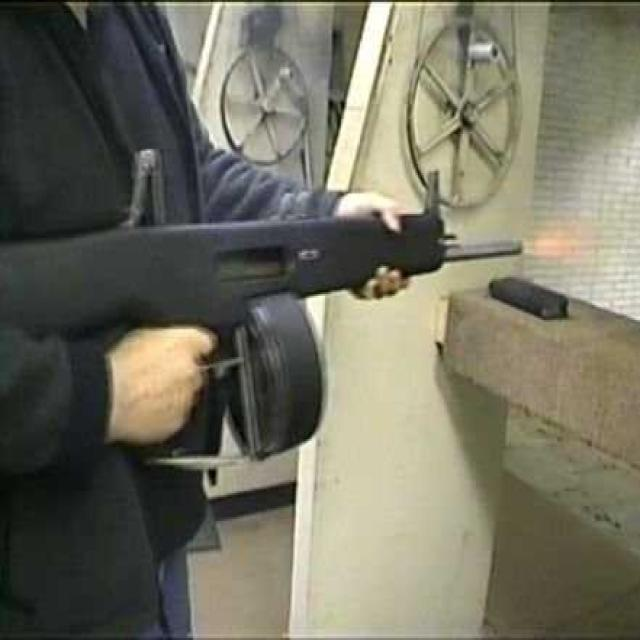Rifle: (2, 177, 540, 353)
